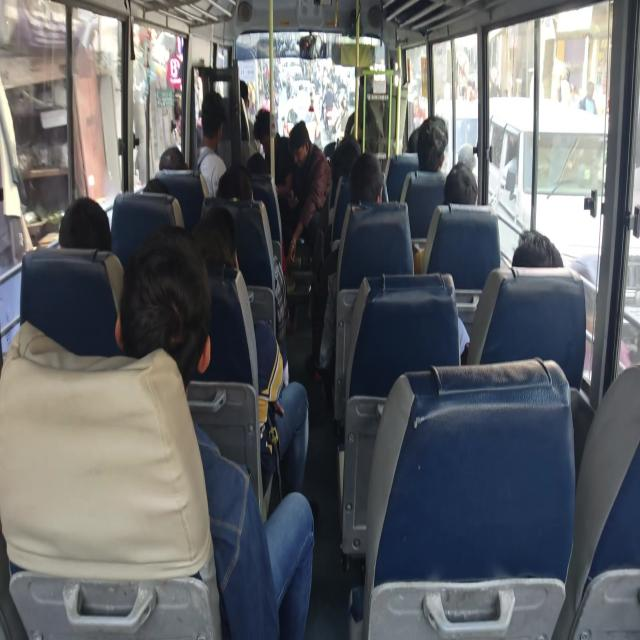person: (113, 238, 217, 388), (55, 176, 115, 262), (194, 200, 245, 280), (345, 144, 394, 208), (509, 224, 569, 272), (443, 159, 483, 212), (214, 162, 258, 210), (201, 82, 228, 156), (417, 110, 446, 177), (155, 143, 193, 182), (136, 175, 178, 210), (286, 112, 310, 172), (332, 138, 368, 170), (246, 146, 274, 181), (354, 60, 379, 97), (256, 102, 274, 151), (236, 75, 250, 110), (406, 124, 419, 156)
